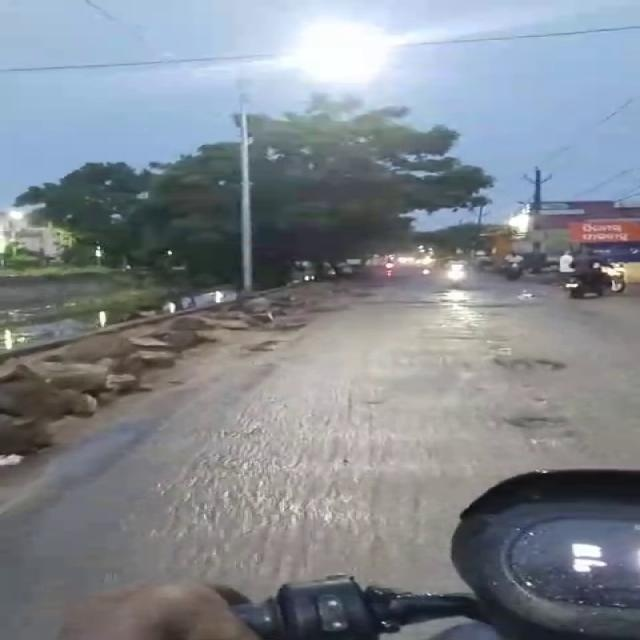pothole: (490, 356, 564, 376), (512, 414, 577, 430), (465, 299, 551, 310), (437, 332, 508, 344), (432, 285, 492, 298), (373, 298, 437, 307), (478, 344, 516, 354), (516, 288, 544, 300)
